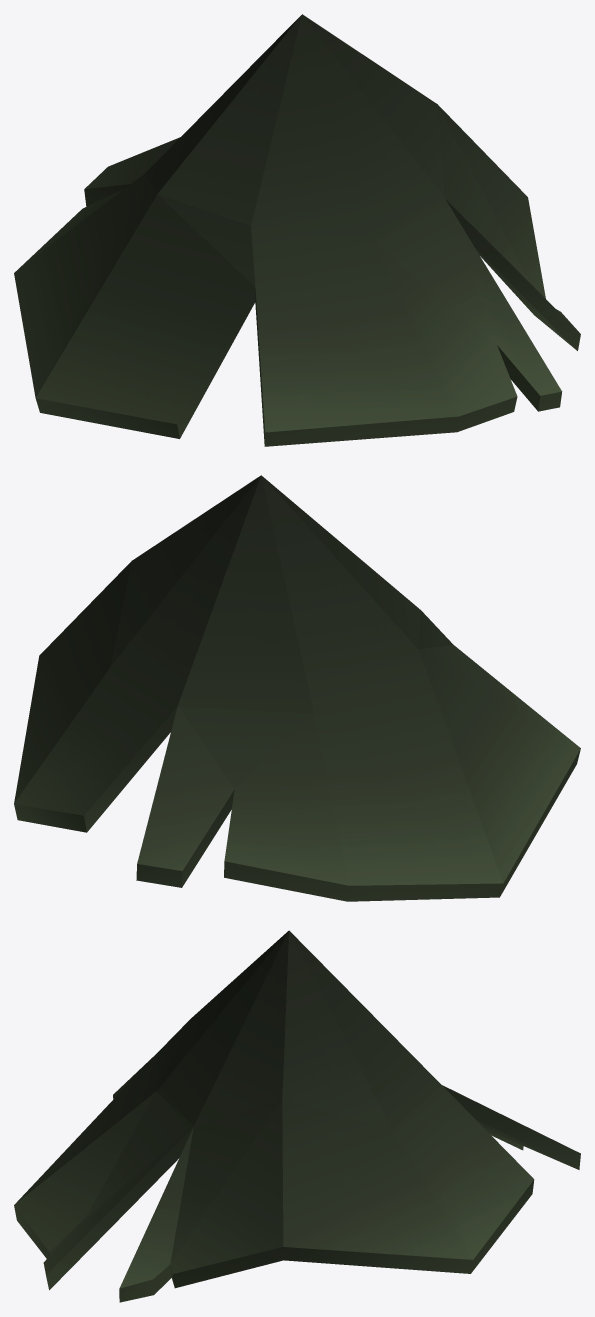
File: Pine-Leaves-Bottom.fbx
3 renders of one model, top to bottom at view 1: azimuth 30°, elevation 25°; view 2: azimuth 150°, elevation 25°; view 3: azimuth 270°, elevation 25°, orthographic. The views are drawn at different scales.
Parts seen in each view (by area): view 1: Pine-Leaves-Bottom; view 2: Pine-Leaves-Bottom; view 3: Pine-Leaves-Bottom.
Part boxes in pixels (x1,y1,x2,y2): Pine-Leaves-Bottom: (14,14,580,446); Pine-Leaves-Bottom: (14,475,580,901); Pine-Leaves-Bottom: (14,930,580,1302).
Size of the model in its own units: 486 by 339 by 544.
1 material, 1 textured.
